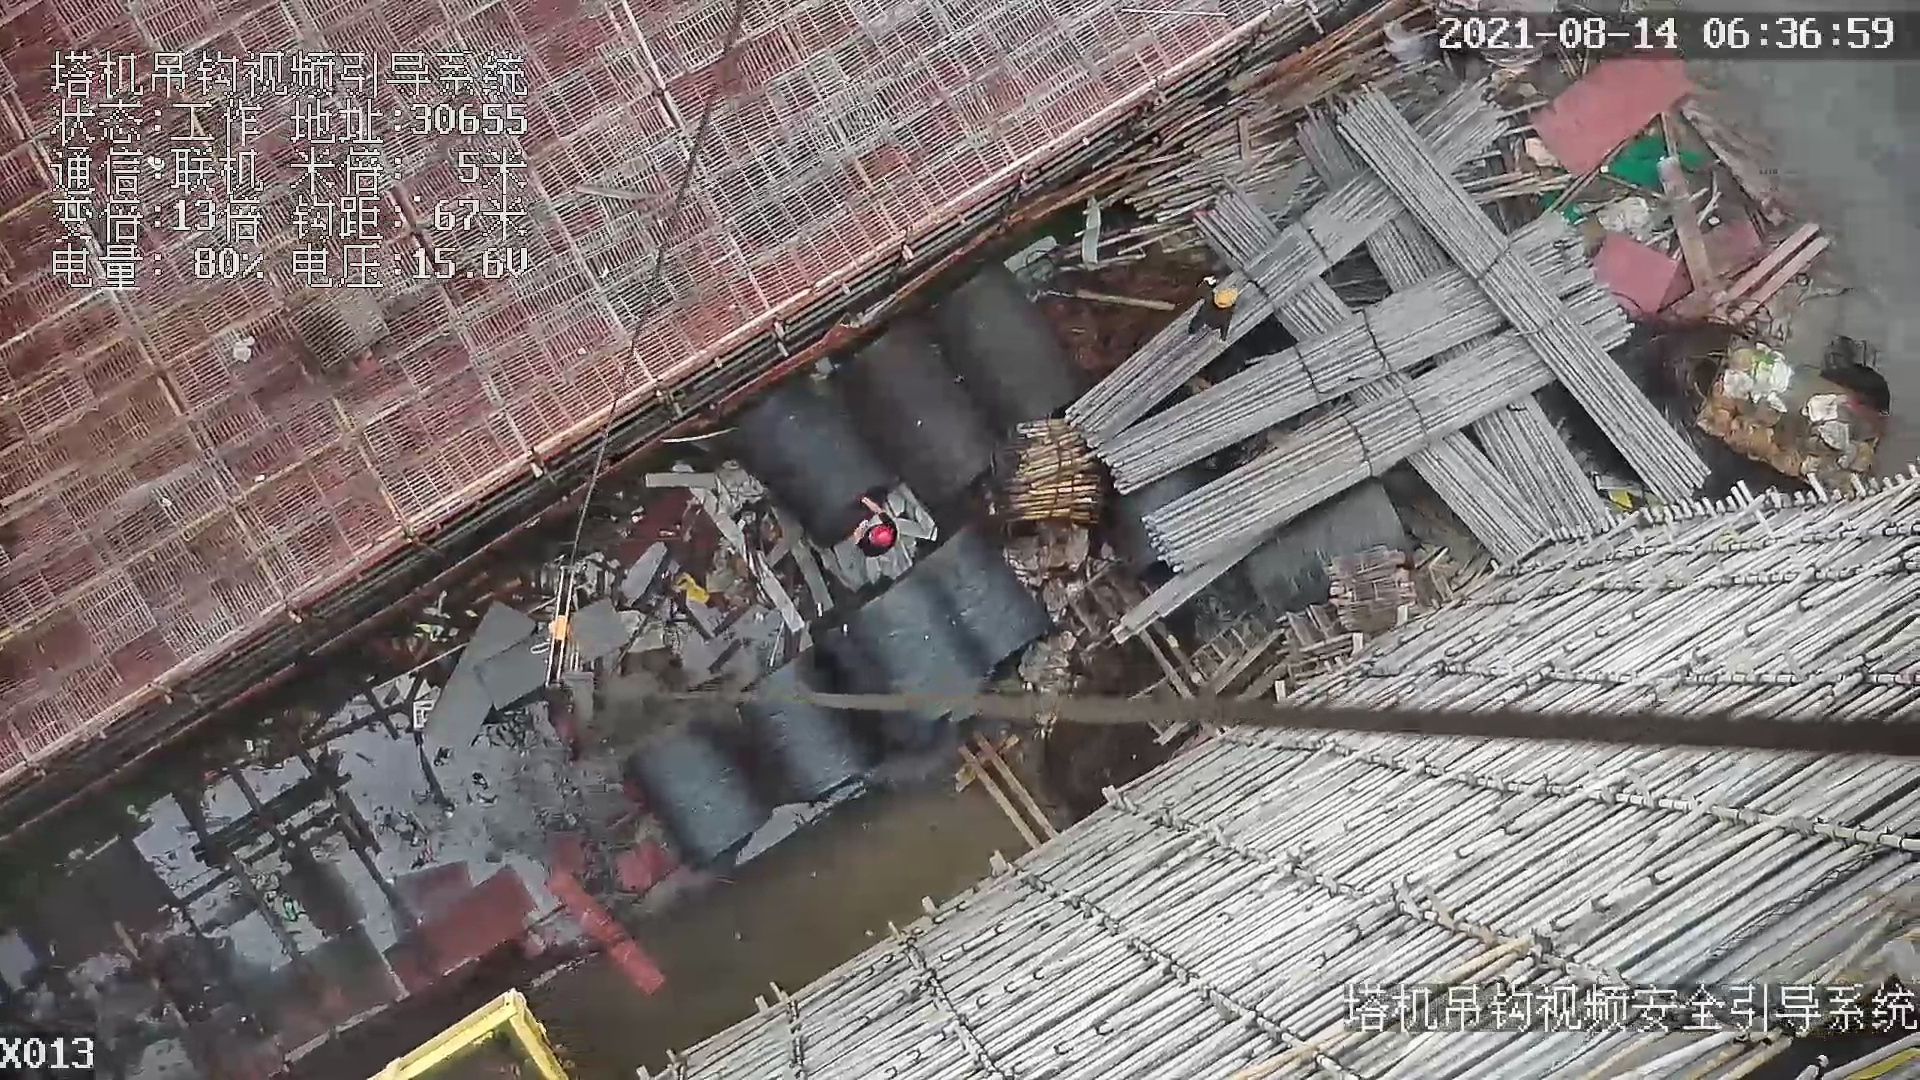helmet: (869, 524, 896, 552), (1214, 285, 1240, 311)
hook: (528, 559, 579, 696)
person: (847, 492, 903, 572), (1199, 272, 1245, 339)
scaffold: (1101, 80, 1690, 590), (988, 405, 1112, 544)
